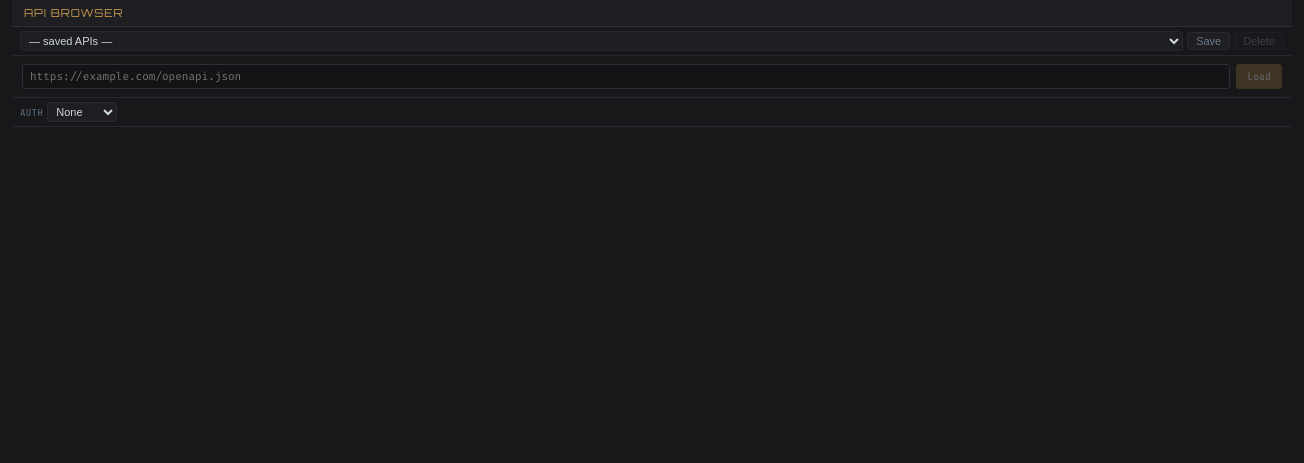
Test: Try-it form › shows Try it button when an operation is expanded
The image size is (1304, 463).
In the field with placeholder "https://example.com/openapi.json": [626, 76] box [22,64,1230,89], type "https://api.example.com/openapi.json"
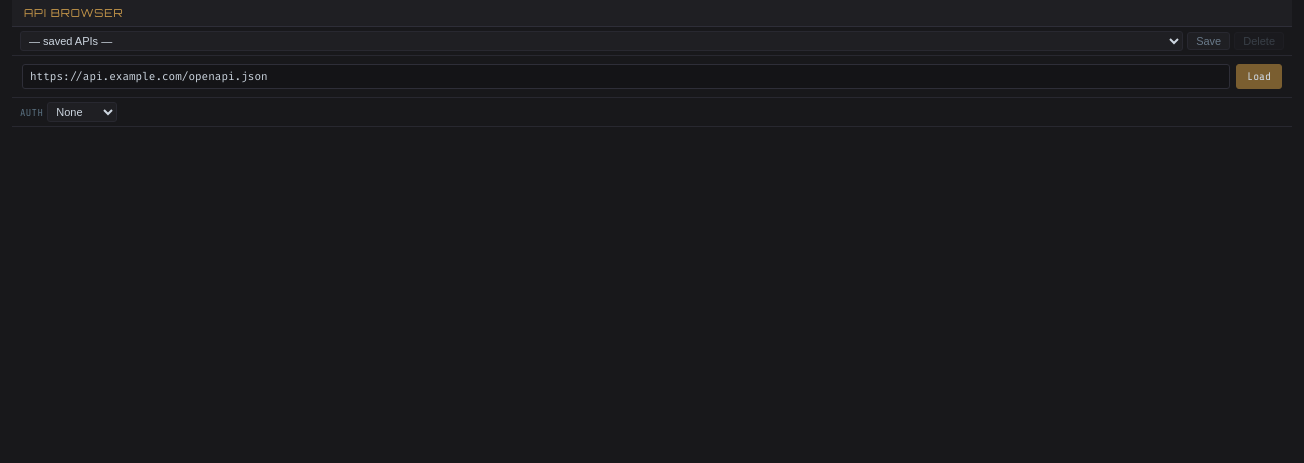
Click the button "Load": [1259, 76] box [1236,64,1282,89]
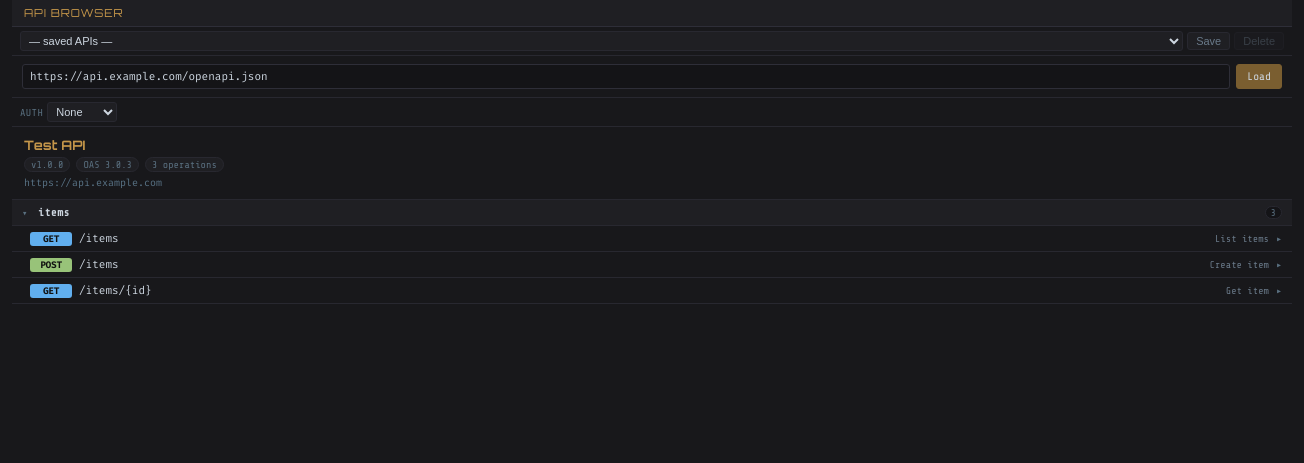
Check: the text "Test API" is shown, box [24,137,85,153]
Click the text "List items": [1242, 238] box [1215,233,1269,244]
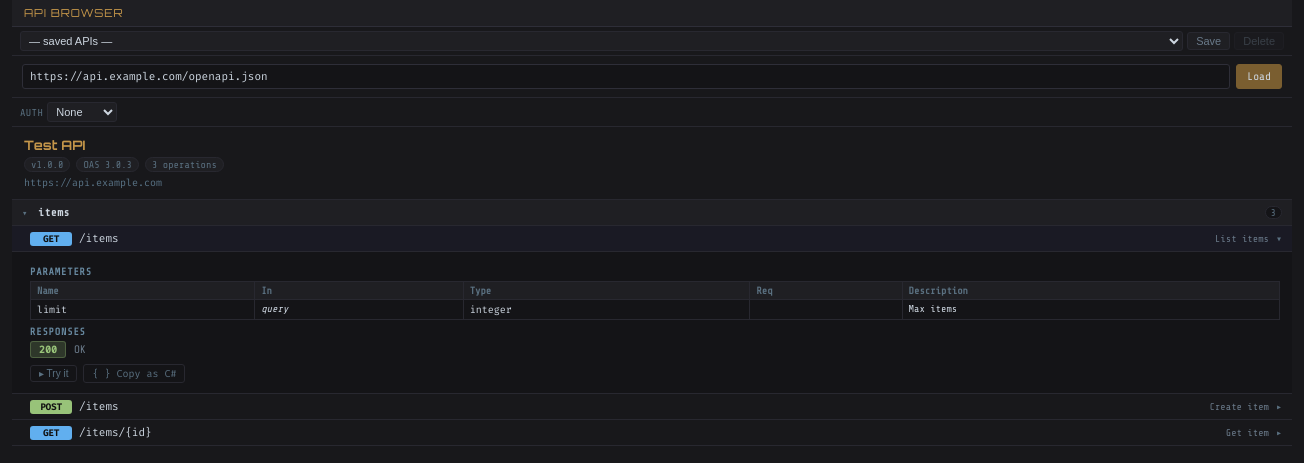
Check: the button "▸ Try it" is shown, box [30,365,78,382]
